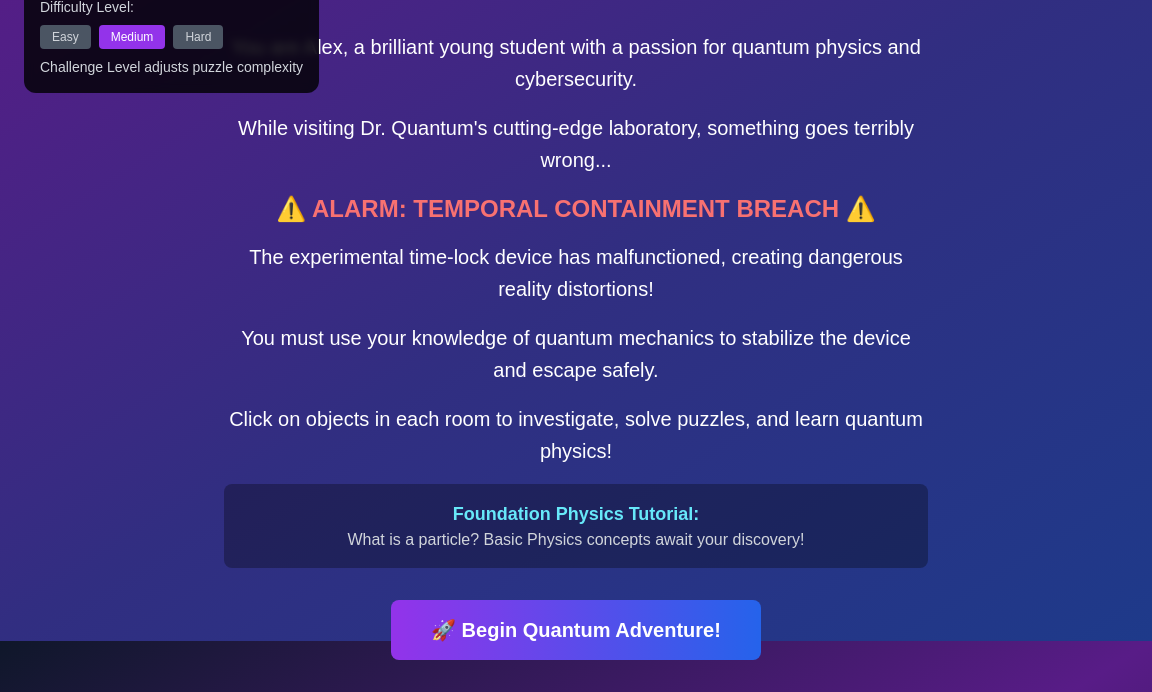
QuantumEscapeRoomEnhanced › Room Navigation and Progression › shows room objectives and progress
(page scrolled)
Click the button "🚀 Begin Quantum Adventure!" at [576, 630], box left=391, top=600, right=761, bottom=660
(page scrolled)
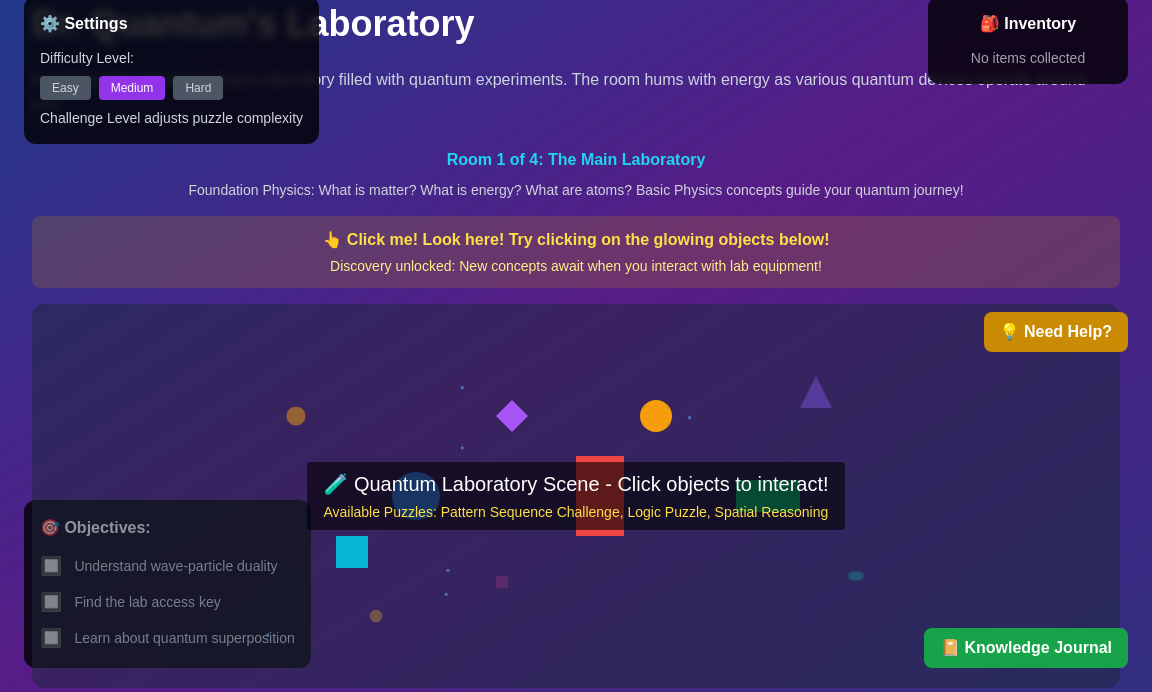
Expected: the heading "🎯 Objectives:" is shown, left=40, top=519, right=151, bottom=536
Expected: the text "Room 1 of 4: The Main Laboratory" is shown, left=447, top=151, right=705, bottom=168
